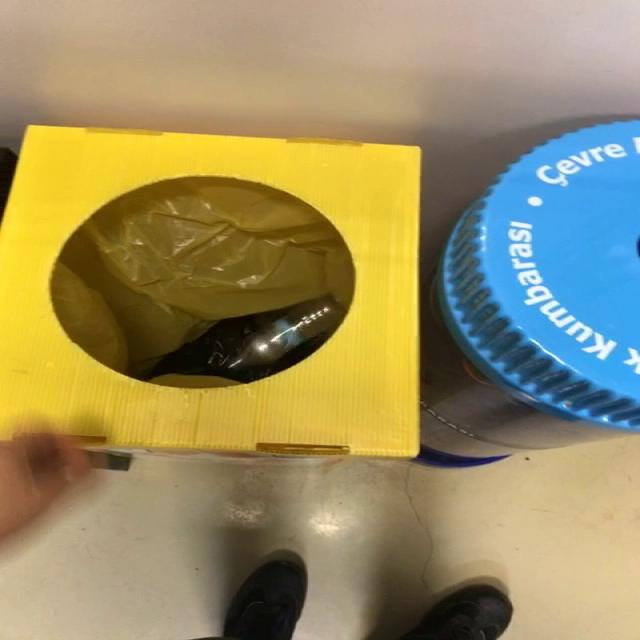plastic: (227, 300, 344, 369)
